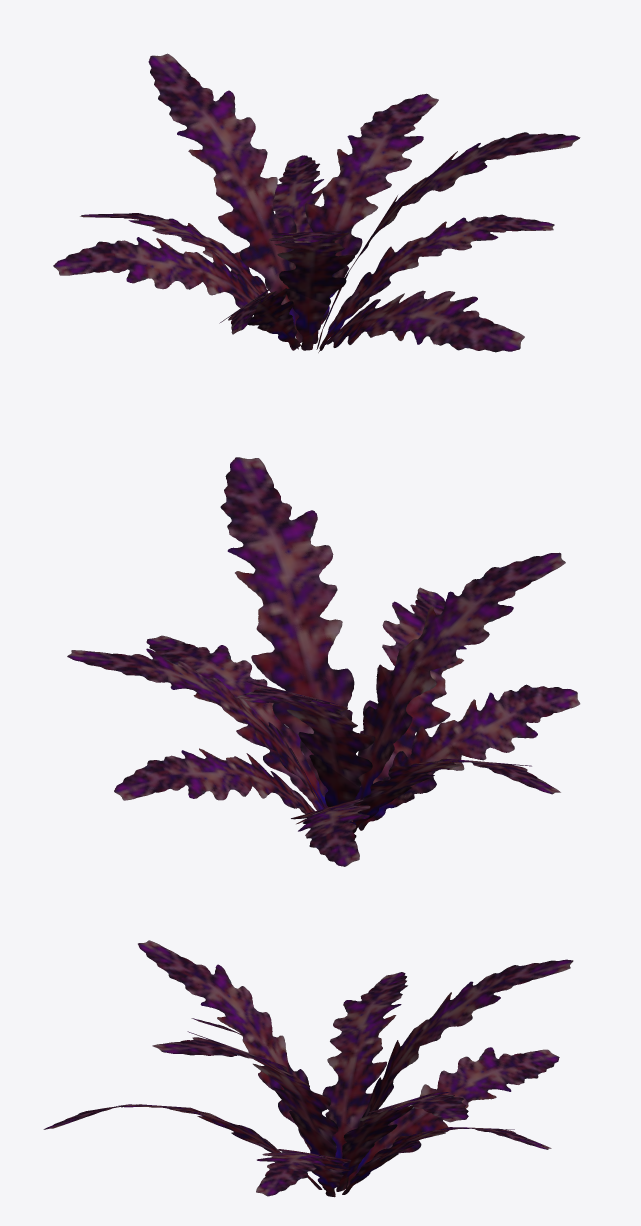
File: Spindlewit C2.fbx
3 renders of one model, top to bottom at view 1: azimuth 30°, elevation 25°; view 2: azimuth 150°, elevation 25°; view 3: azimuth 270°, elevation 25°, orthographic. The views are drawn at different scales.
Parts seen in each view (by area): view 1: Spindlewit C2; view 2: Spindlewit C2; view 3: Spindlewit C2.
Boxes of the visible parts, x1,y1,x2,y2 form: Spindlewit C2: [53, 53, 580, 352]; Spindlewit C2: [67, 457, 580, 866]; Spindlewit C2: [43, 940, 573, 1197].
Bounding box in the file's own units: 118 × 57.68 × 125.
